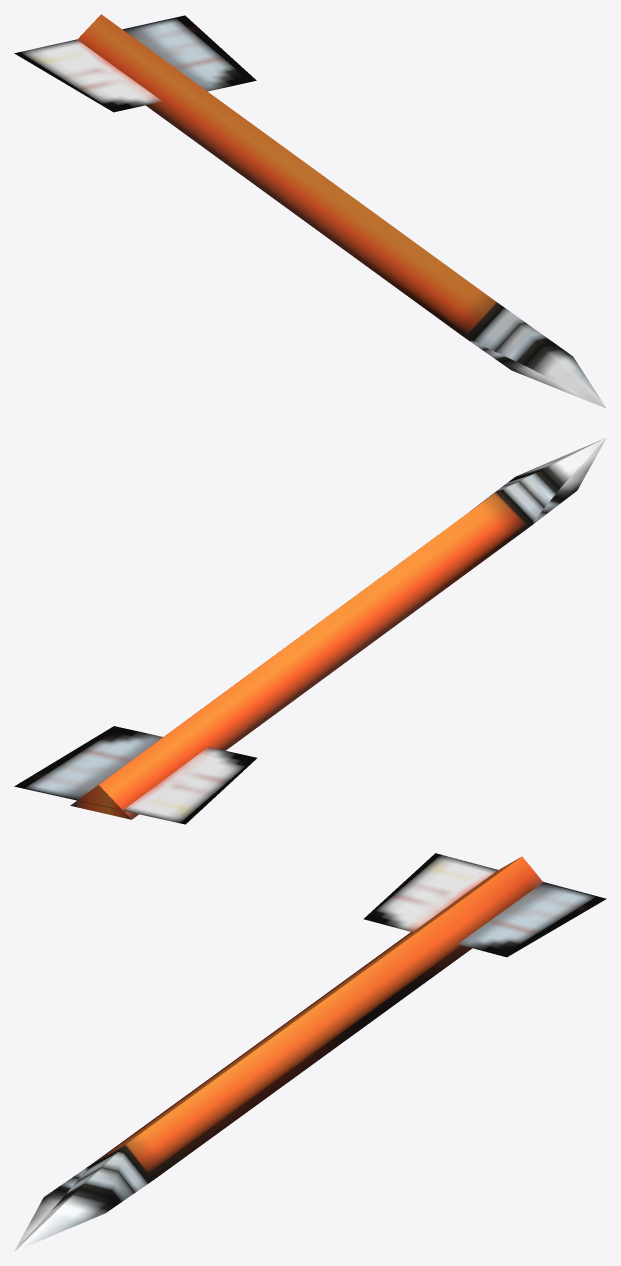
Rendered from archer_arrow.FBX.
The picture shows the model from 3 angles, top to bottom: view 1: azimuth 30°, elevation 25°; view 2: azimuth 150°, elevation 25°; view 3: azimuth 330°, elevation 25°; orthographic projection.
Parts seen in each view (by area): view 1: arrow; view 2: arrow; view 3: arrow.
Part boxes in pixels (box(x1,y1,x2,y2)): arrow: box(14, 14, 606, 408); arrow: box(14, 437, 606, 824); arrow: box(14, 853, 606, 1251).
Bounding box in the file's own units: 24.63 × 4.1 × 126.
